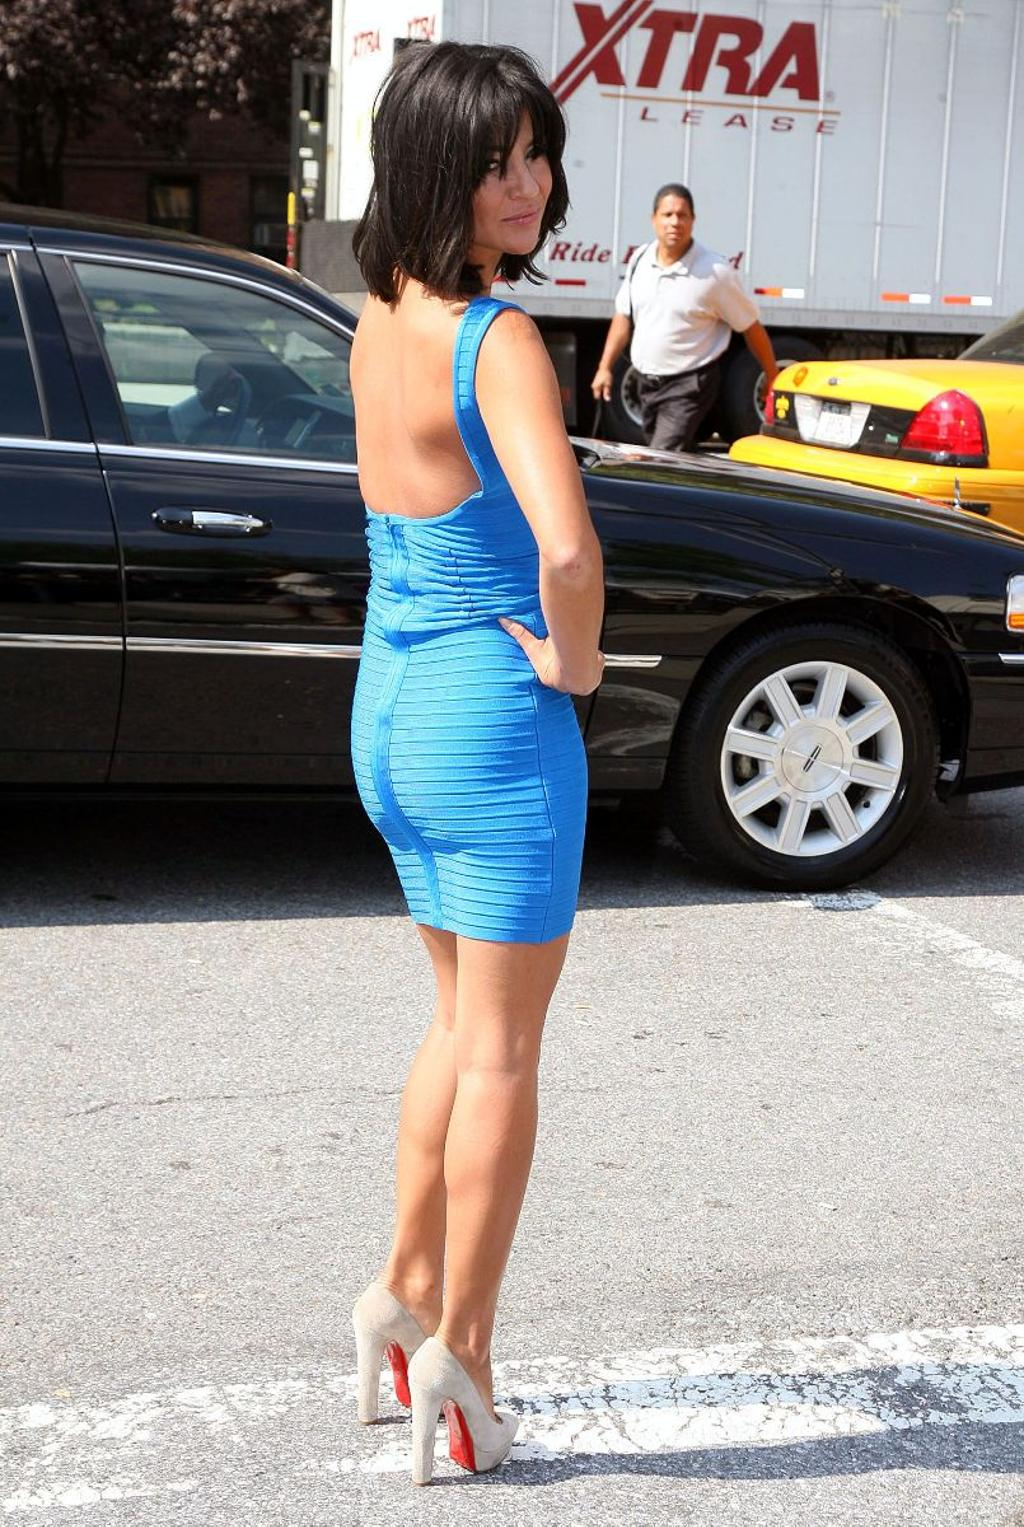face: (454, 113, 552, 254), (656, 200, 693, 247)
